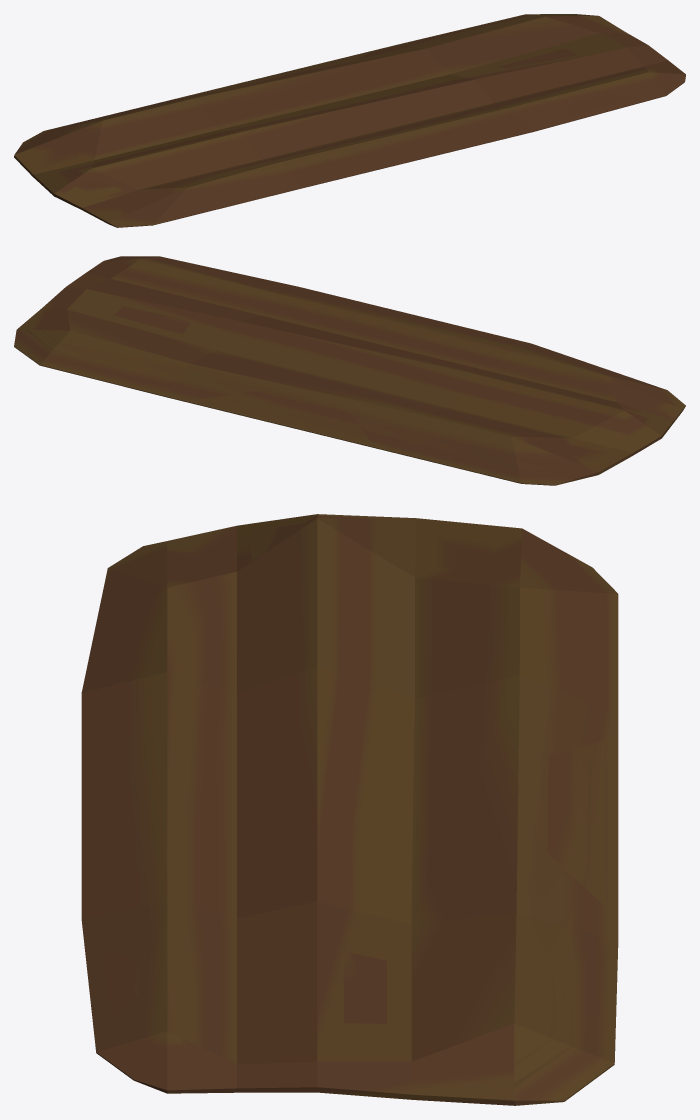
File: tilled-soil.fbx
3 renders of one model, top to bottom at view 1: azimuth 30°, elevation 25°; view 2: azimuth 150°, elevation 25°; view 3: azimuth 270°, elevation 25°, orthographic. The views are drawn at different scales.
Visible parts, largest first — view 1: Cube; view 2: Cube; view 3: Cube.
Boxes of the visible parts, x1,y1,x2,y2 form: Cube: (14, 14, 685, 227); Cube: (14, 256, 685, 485); Cube: (81, 514, 618, 1105).
Size of the model in its own units: 717 by 28.46 by 280.
